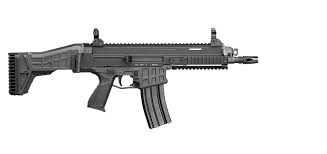Arma Real: (8, 27, 261, 130)
